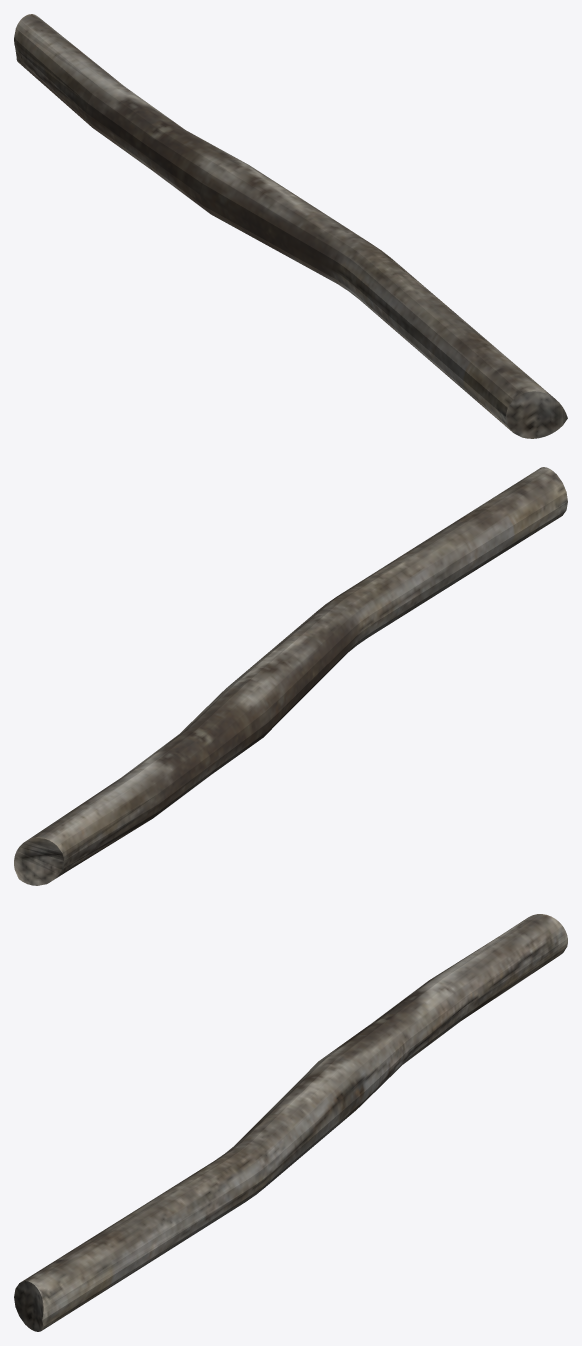
Rendered from SM_Twigs_8.fbx.
3 renders of one model, top to bottom at view 1: azimuth 30°, elevation 25°; view 2: azimuth 150°, elevation 25°; view 3: azimuth 330°, elevation 25°, orthographic.
Parts seen in each view (by area): view 1: SM_Twigs_8_LOD0; view 2: SM_Twigs_8_LOD0; view 3: SM_Twigs_8_LOD0.
Boxes of the visible parts, box(x1,y1,x2,y2) form: SM_Twigs_8_LOD0: box(14, 14, 567, 438); SM_Twigs_8_LOD0: box(14, 467, 567, 885); SM_Twigs_8_LOD0: box(14, 914, 567, 1331).
Size of the model in its own units: 2.01 by 26.3 by 1.55.
